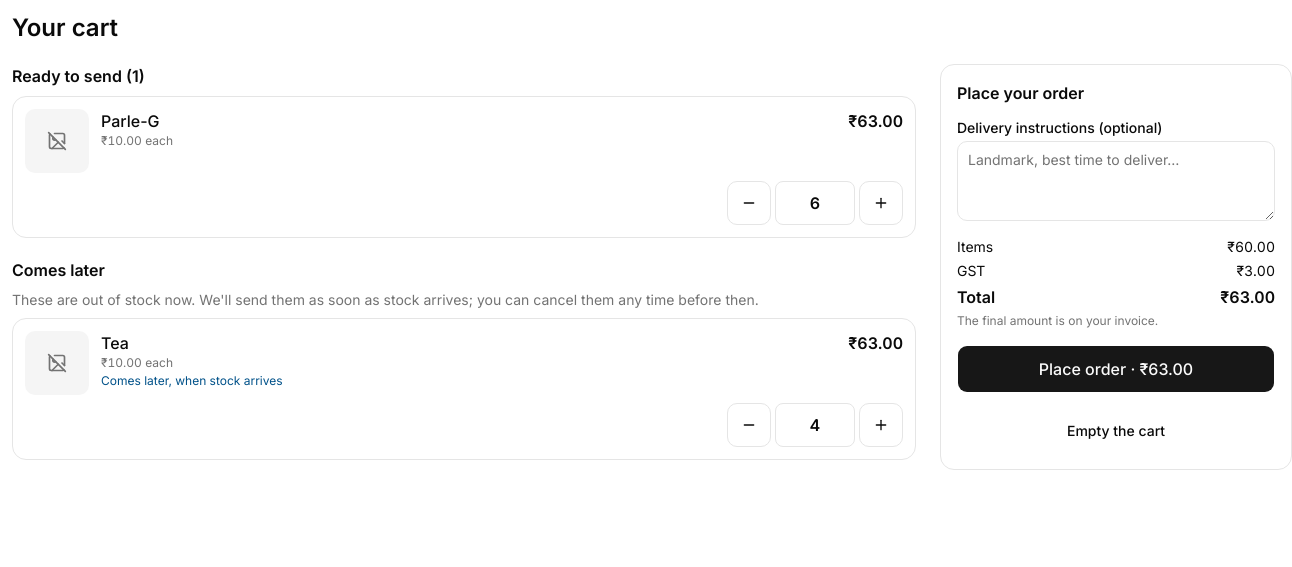
Scenario: Checkout on a poor connection › shows what comes later and a price change in plain words
The width and height of the screenshot is (1292, 567).
Expected: the heading "Comes later" is shown, [12,260,105,280]
Expected: the text "Comes later, when stock arrives" is shown, [101,373,283,388]
Click the button "Place order · ₹63.00": [1116, 369] box [957,345,1275,393]
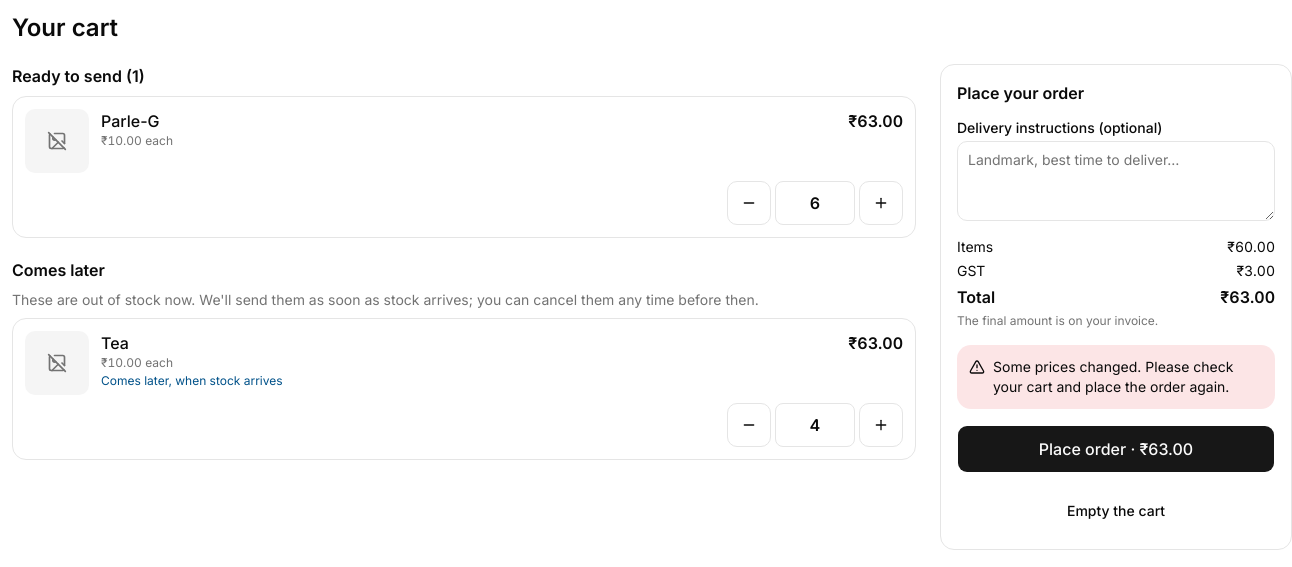
Expected: the text "prices changed" is shown, [993,358,1233,395]
